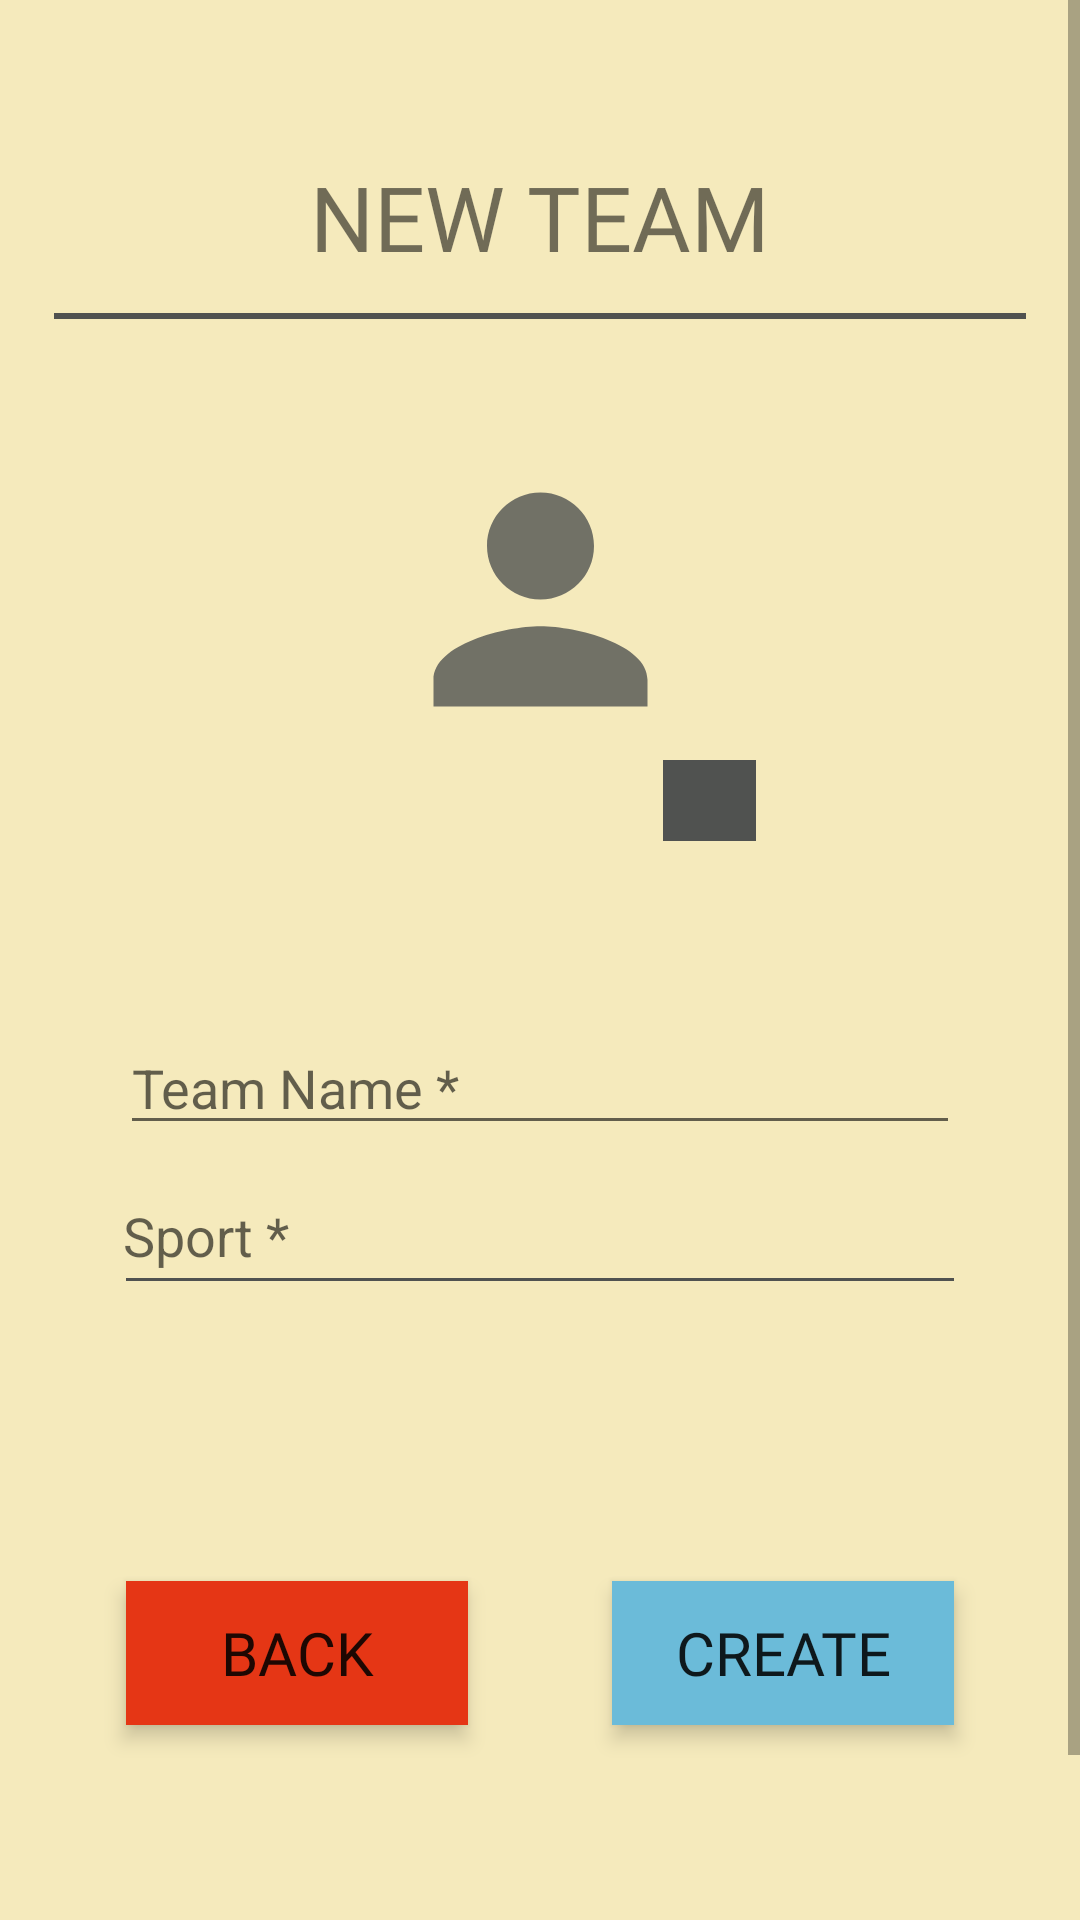

Point at icon controls on the screen. Image size 1080 × 1920, points as point (x, y).
profile: point (540, 599)
